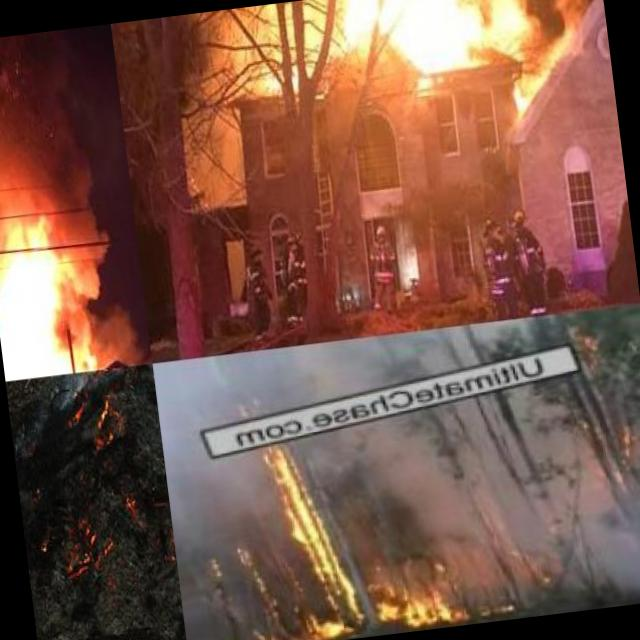fire: (193, 424, 486, 640), (352, 0, 536, 110), (0, 246, 87, 381), (522, 0, 597, 84), (62, 511, 114, 581), (86, 394, 124, 456)
smoke: (312, 411, 588, 553), (0, 24, 130, 257), (444, 446, 640, 597), (73, 239, 148, 371), (62, 371, 97, 396)
